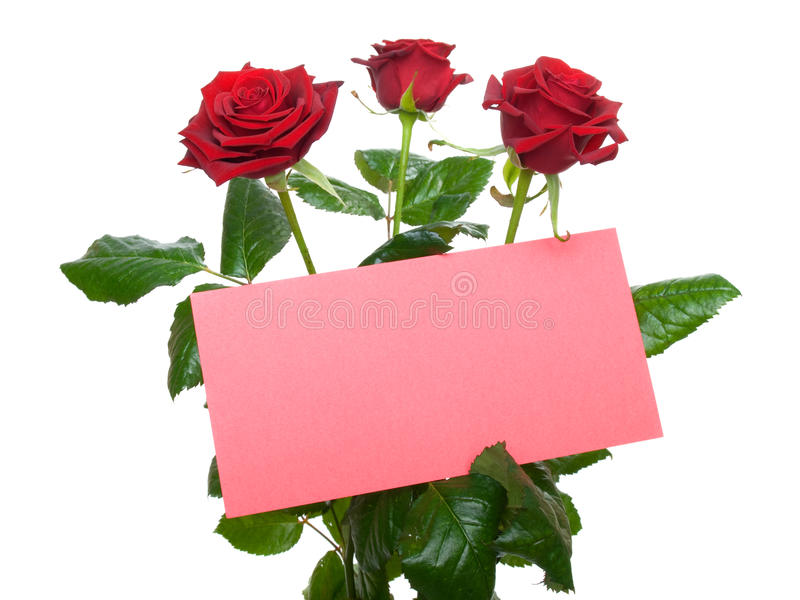RedRose: (179, 45, 350, 181), (487, 58, 617, 169), (365, 32, 464, 76)
